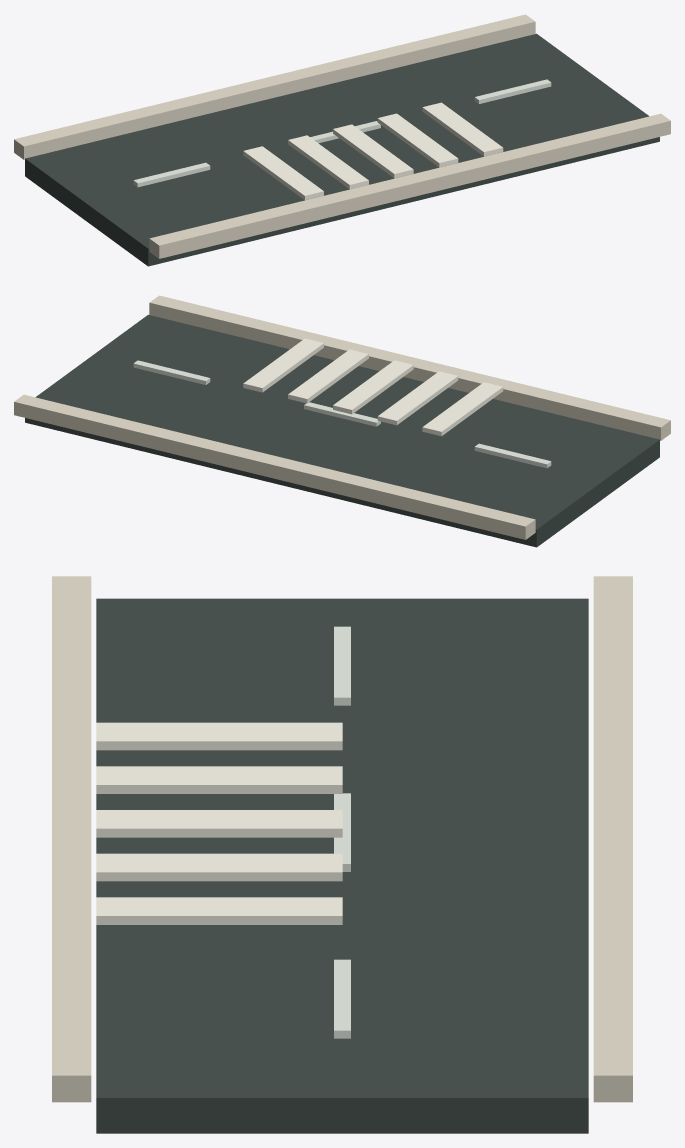
The model's file is road_crosswalk.glb.
3 renders of one model, top to bottom at view 1: azimuth 30°, elevation 25°; view 2: azimuth 150°, elevation 25°; view 3: azimuth 270°, elevation 25°, orthographic. The views are drawn at different scales.
Parts seen in each view (by area): view 1: road, curb_right, curb_left, walk_0.21, walk_0.42, walk_-0.21, walk_-0.42, walk_0, lane_0.8, lane_-0.8; view 2: road, curb_left, curb_right, walk_-0.21, walk_-0.42, walk_0.21, walk_0.42, walk_0, lane_0.8, lane_-0.8, lane_0; view 3: road, curb_left, curb_right, walk_-0.42, walk_0.21, walk_-0.21, walk_0, walk_0.42, lane_-0.8, lane_0.8, lane_0.
Boxes of the visible parts, x1,y1,x2,y2 form: road: (25,33,659,266); curb_right: (149,113,670,258); curb_left: (14,14,535,159); walk_0.21: (377,113,458,167); walk_0.42: (422,102,503,156); walk_-0.21: (288,135,368,189); walk_-0.42: (243,146,323,200); walk_0: (333,124,413,178); lane_0.8: (474,79,551,103); lane_-0.8: (133,162,210,187); road: (25,314,659,547); curb_left: (14,394,535,539); curb_right: (149,295,670,440); walk_-0.21: (377,371,458,425); walk_-0.42: (422,382,503,436); walk_0.21: (288,349,368,403); walk_0.42: (243,338,323,392); walk_0: (333,360,413,414); lane_0.8: (133,360,210,384); lane_-0.8: (474,443,551,468); lane_0: (304,402,380,426); road: (96,598,588,1133); curb_left: (593,576,632,1102); curb_right: (52,576,91,1102); walk_-0.42: (96,722,342,750); walk_0.21: (96,853,342,881); walk_-0.21: (96,766,342,793); walk_0: (96,810,342,837); walk_0.42: (96,897,342,924); lane_-0.8: (334,626,350,705); lane_0.8: (334,959,350,1038); lane_0: (334,793,350,871).
Size of the model in its own units: 2.4 by 0.145 by 1.18.
